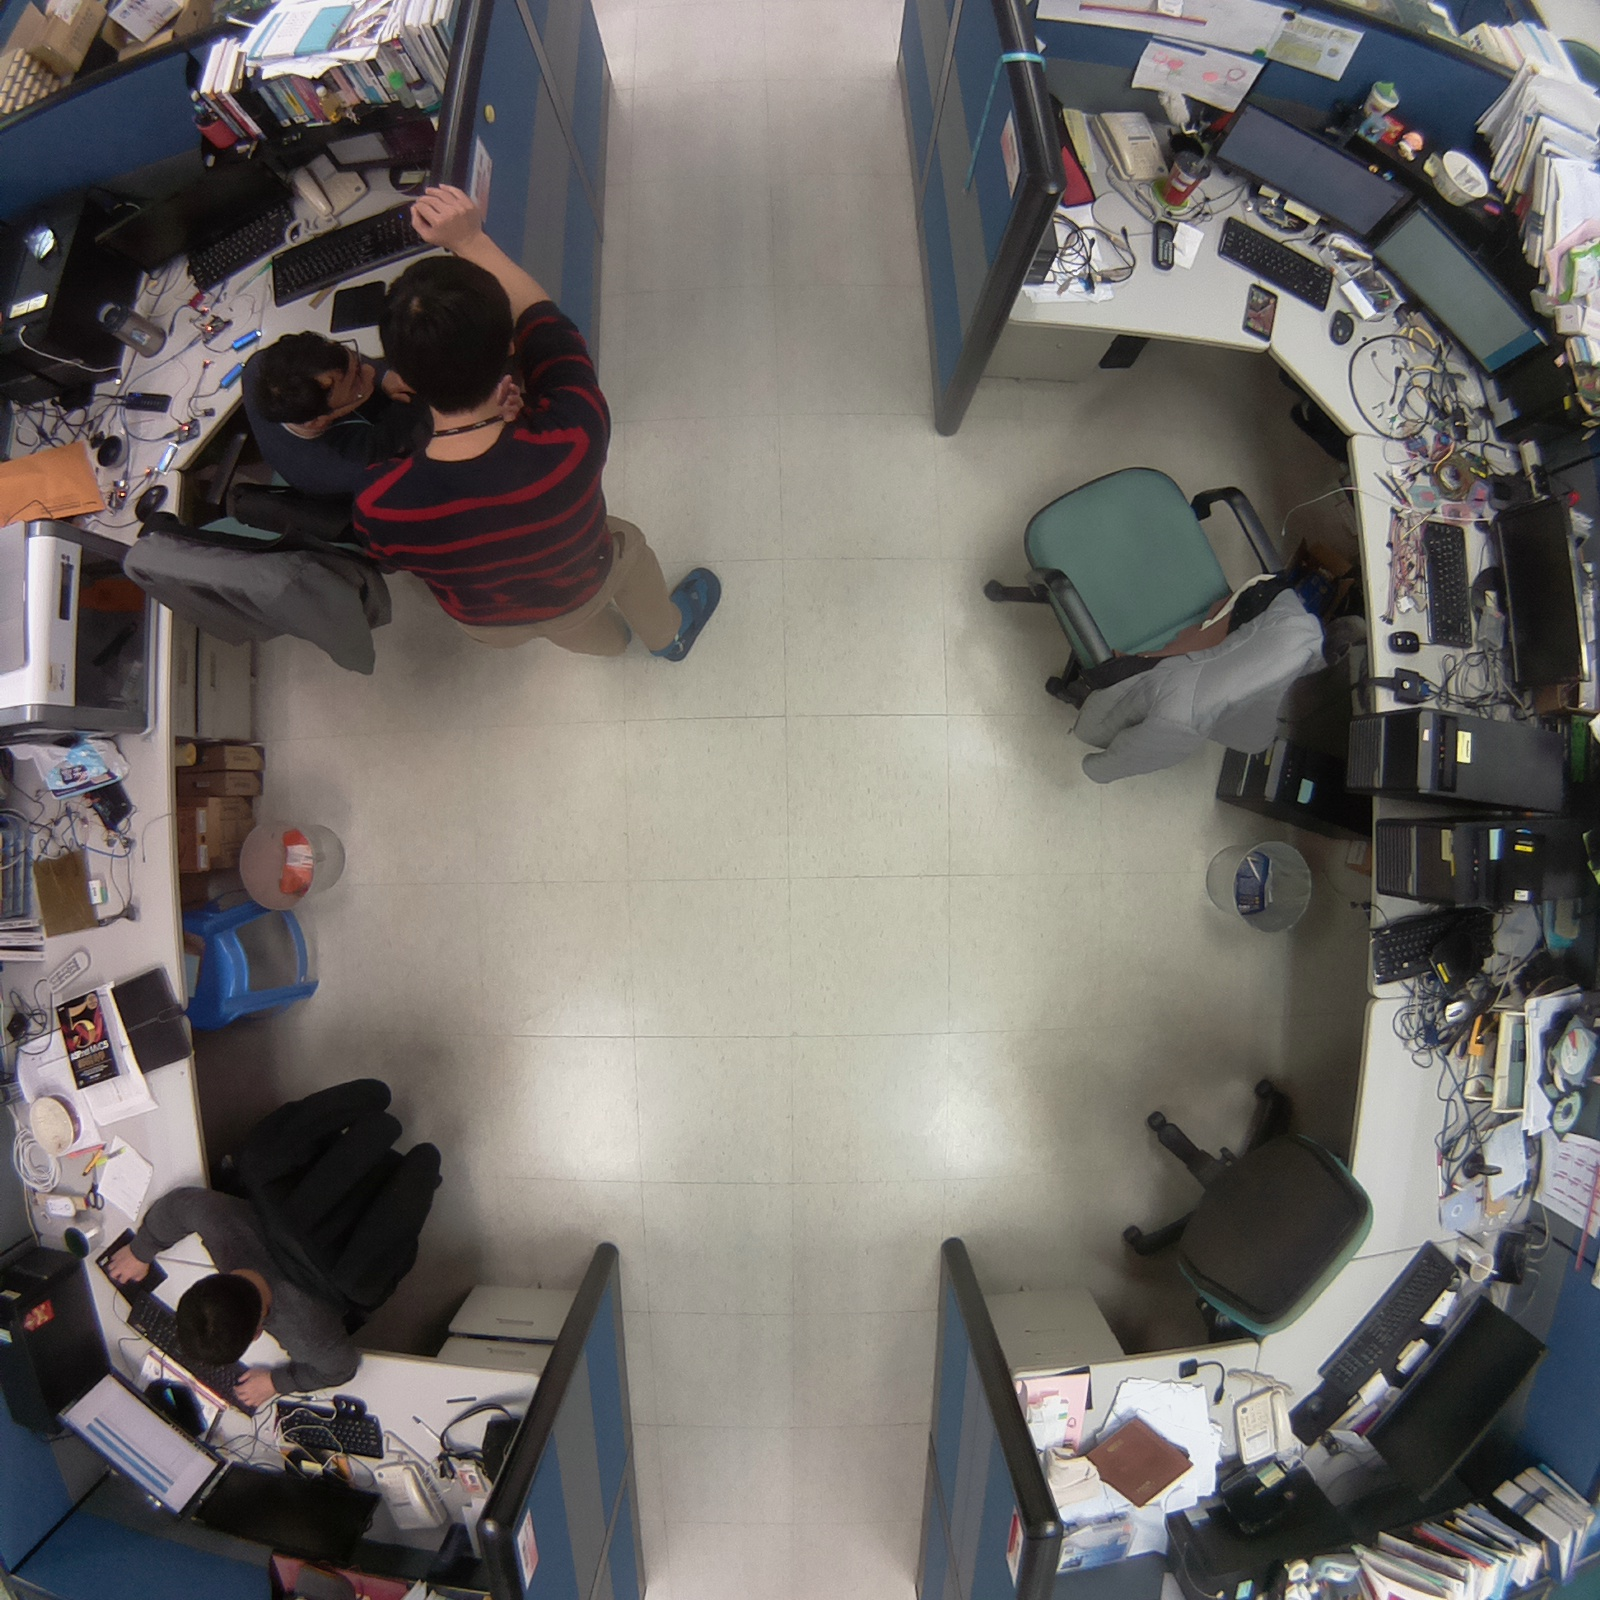chair: (970, 427, 1335, 799), (1096, 1055, 1388, 1358)
head: (376, 251, 523, 421), (240, 325, 368, 438), (170, 1263, 276, 1365)
sitting: (98, 1063, 455, 1406), (119, 329, 404, 686)
standing: (344, 257, 744, 677)
